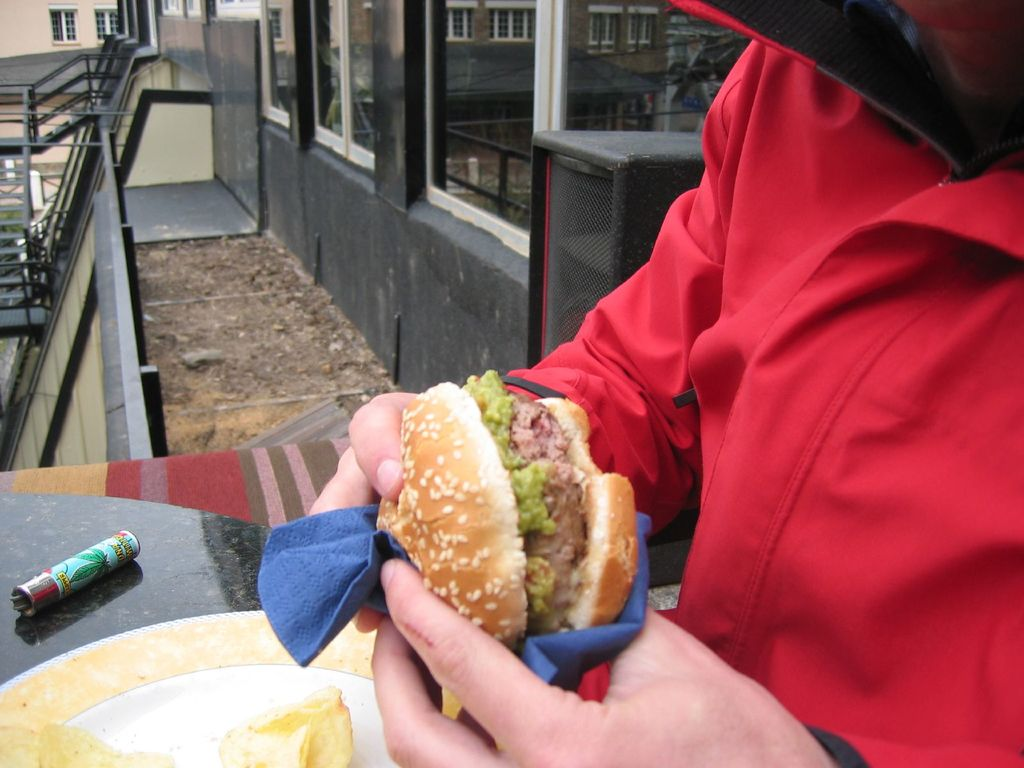Hamburger: (365, 351, 645, 668)
